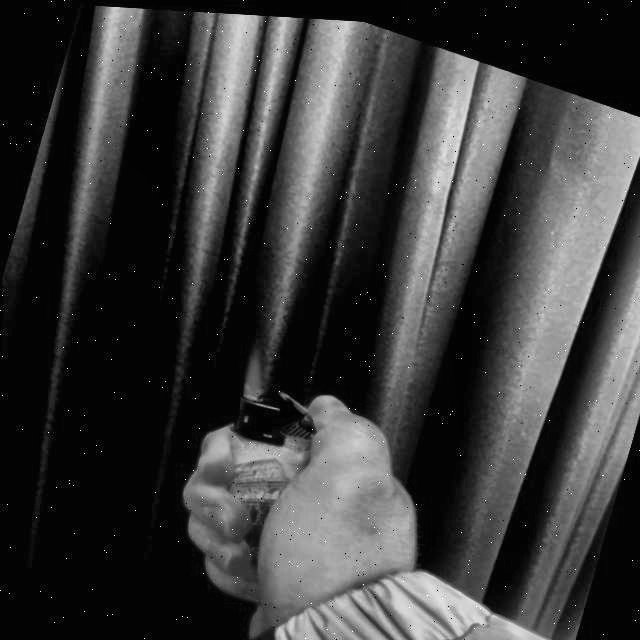Fire: (235, 341, 275, 398)
